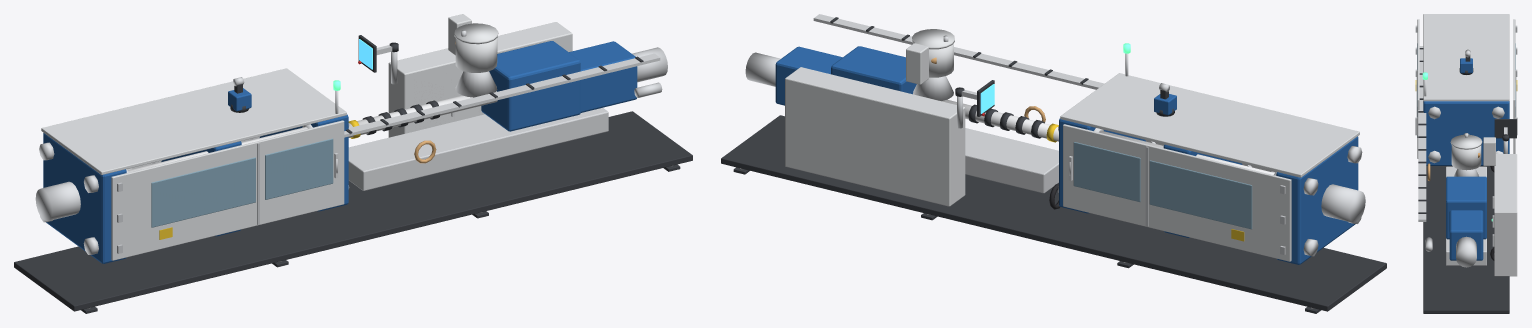
File: injection.glb
3 views of the same model, side by side, from view 1: azimuth 30°, elevation 25°; view 2: azimuth 150°, elevation 25°; view 3: azimuth 270°, elevation 25° (orthographic). The views are drawn at different scales.
Visible parts, largest first — view 1: Cone; view 2: Cone; view 3: Cone.
Part boxes in pixels (left/top/right/bottom): Cone: left=14, top=14, right=692, bottom=313; Cone: left=721, top=14, right=1386, bottom=313; Cone: left=1415, top=14, right=1517, bottom=313.
Bounding box in the file's own units: 13.6 × 3.58 × 2.74.
